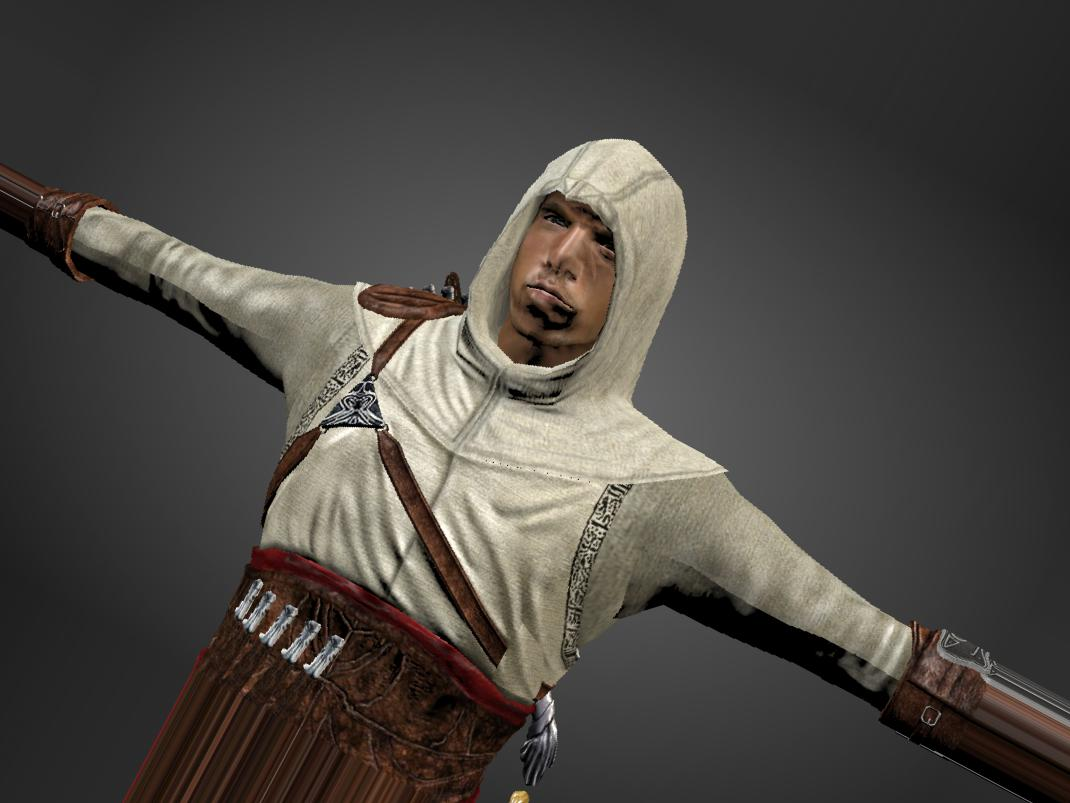clip: (480, 626, 552, 695)
